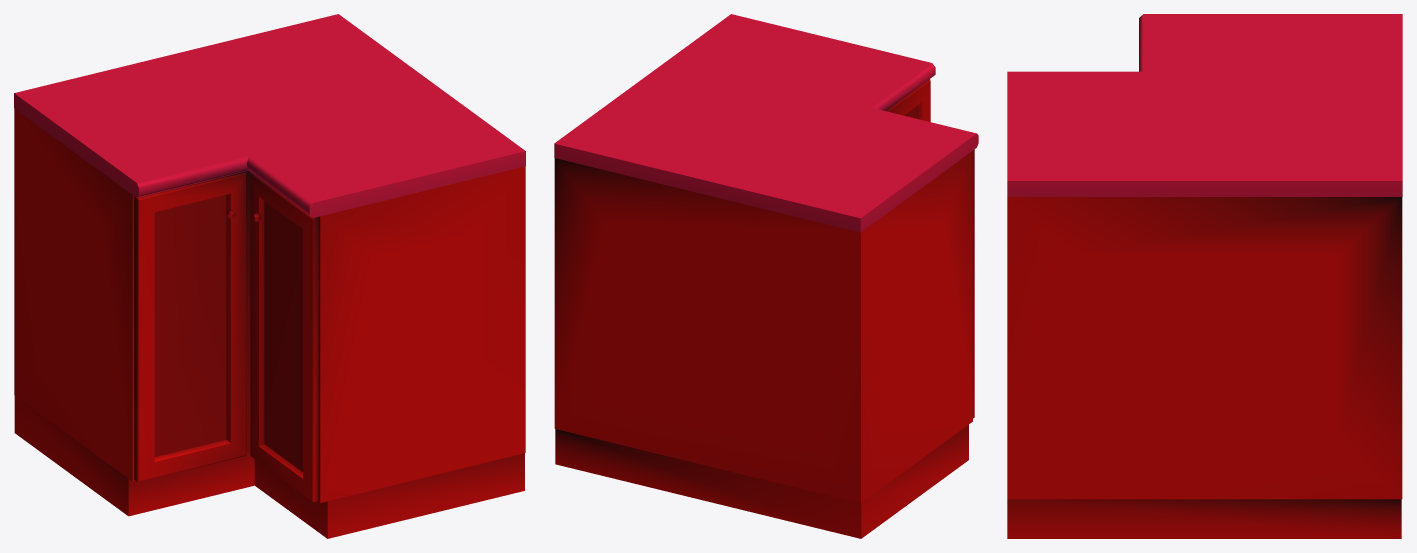
File: CI_Kitchen_Base_Corner.glb
3 views of the same model, side by side, from view 1: azimuth 30°, elevation 25°; view 2: azimuth 150°, elevation 25°; view 3: azimuth 270°, elevation 25° (orthographic). The views are drawn at different scales.
Parts seen in each view (by area): view 1: CI_Kitchen_Base_Corner; view 2: CI_Kitchen_Base_Corner; view 3: CI_Kitchen_Base_Corner.
Boxes of the visible parts, bbox=[...] form: CI_Kitchen_Base_Corner: bbox=[14, 14, 525, 538]; CI_Kitchen_Base_Corner: bbox=[554, 14, 978, 538]; CI_Kitchen_Base_Corner: bbox=[1007, 14, 1402, 538].
Bounding box in the file's own units: 0.9 × 0.9 × 0.9.
